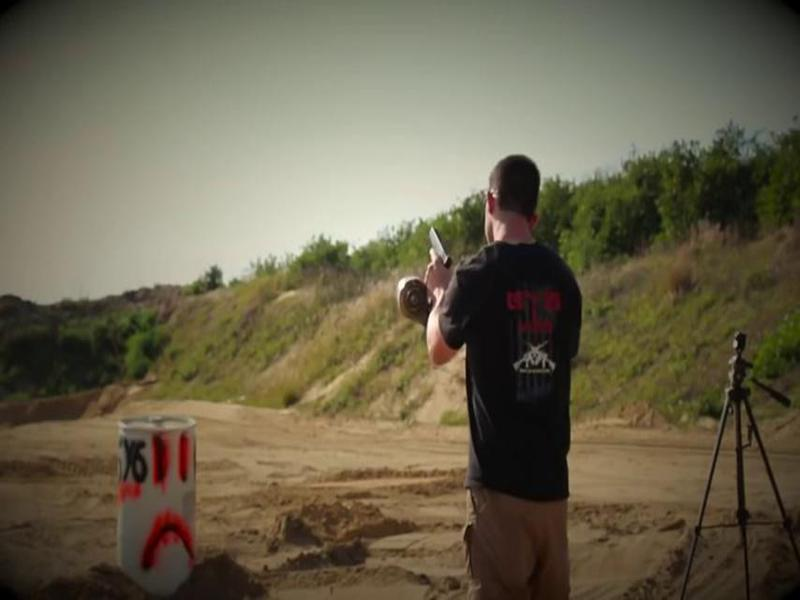Pistola: (404, 215, 465, 281)
